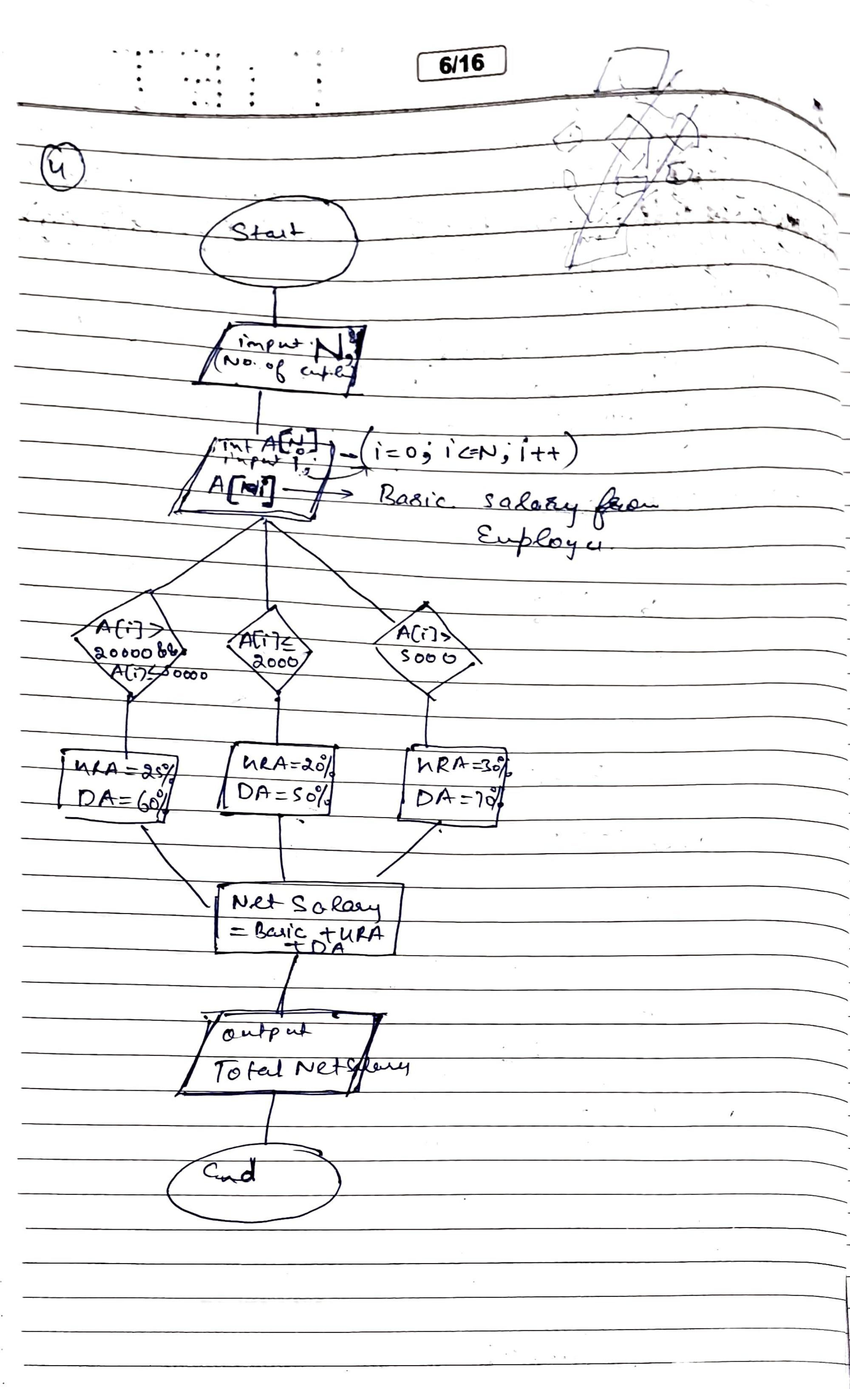cuttings: (547, 92, 713, 275), (241, 479, 259, 495)
